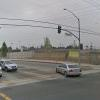Car: (51, 57, 84, 80)
